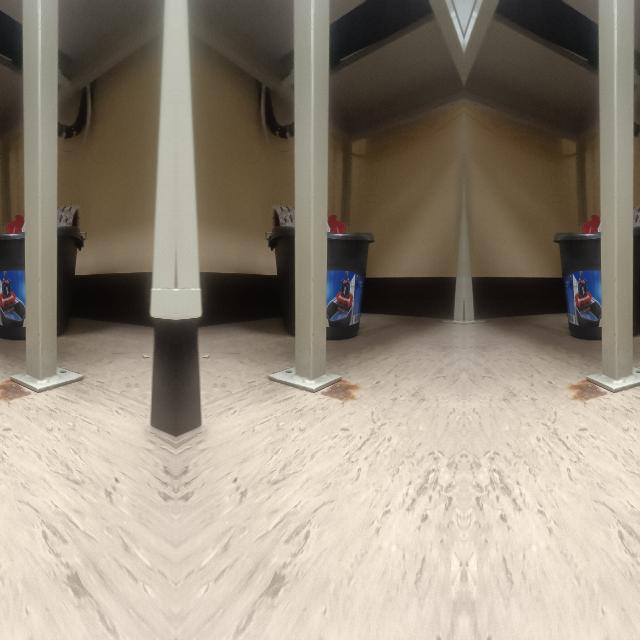obstacle: (268, 103, 342, 397), (8, 103, 82, 397), (586, 103, 640, 397)
